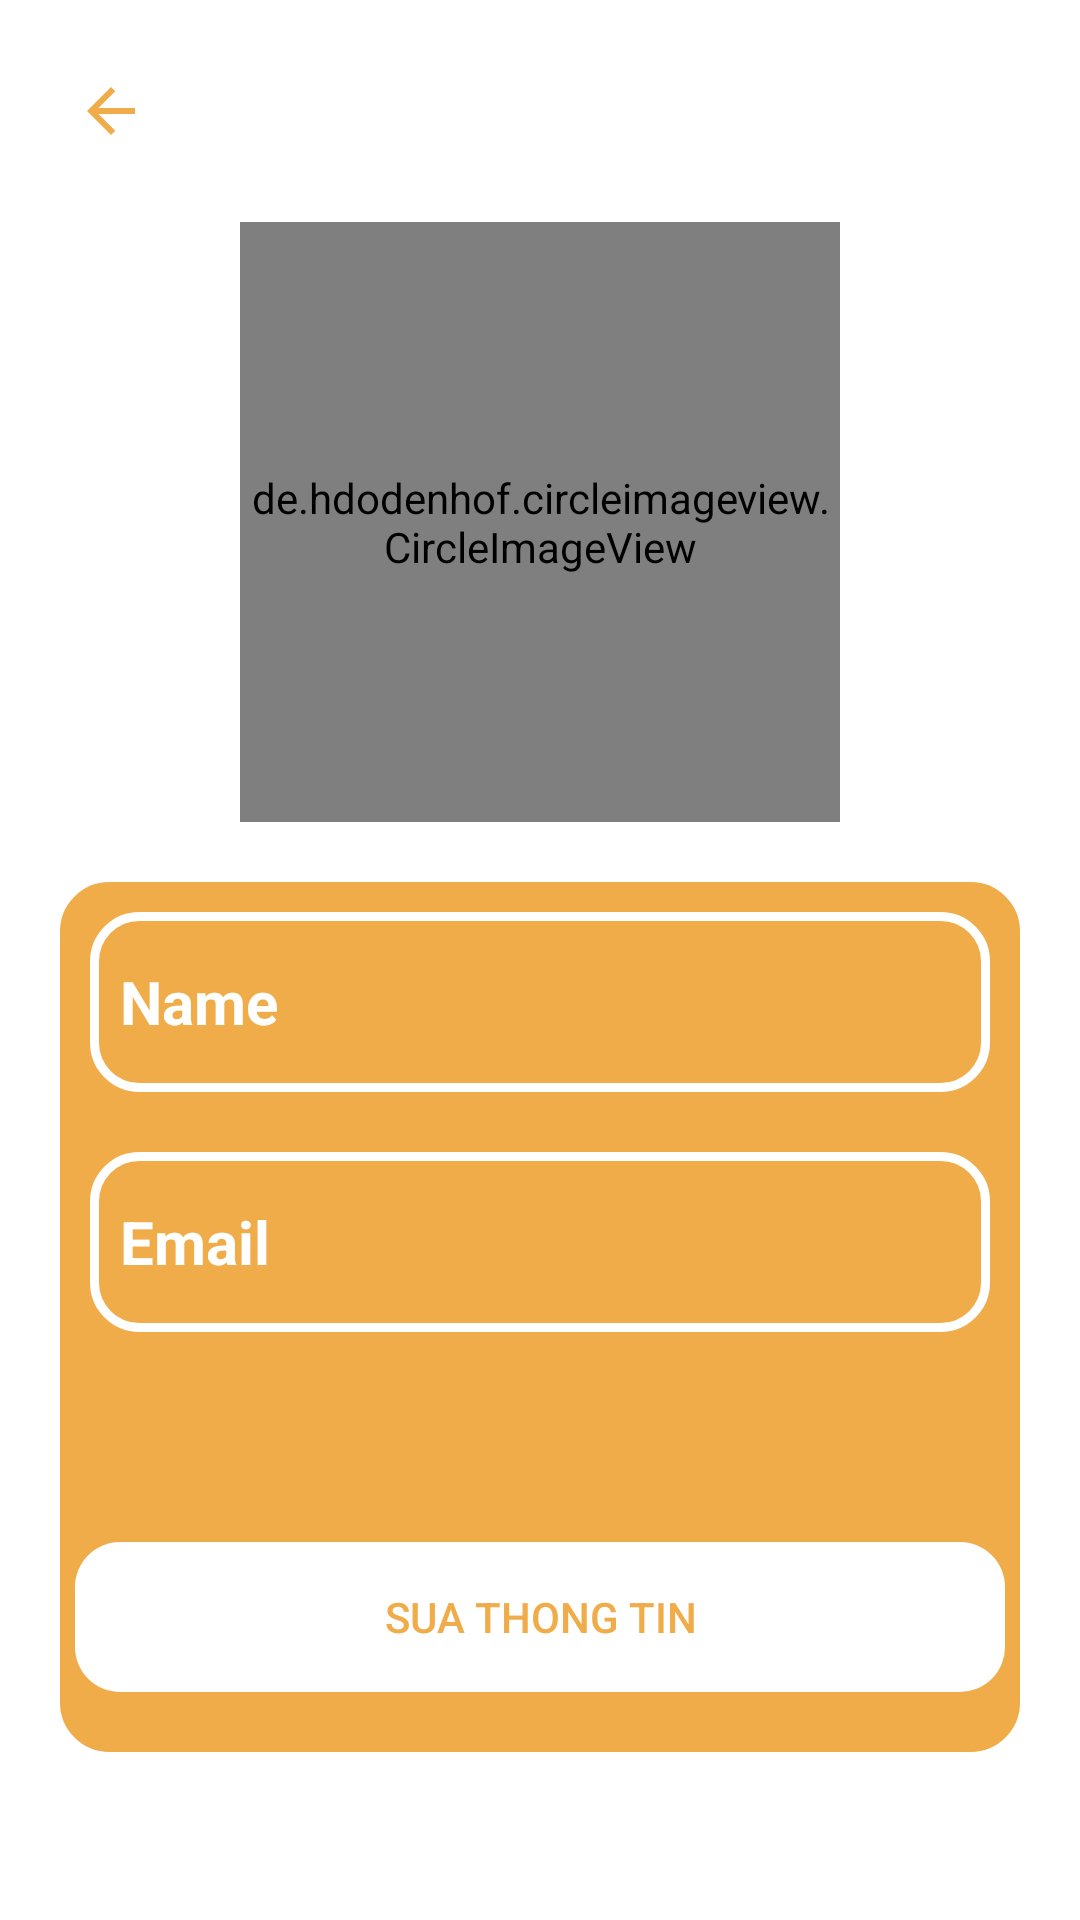

Icons on this 1080px×1920px Android screen, each with its box as (x1, y1, x2, y2):
arrow back: (87, 87, 135, 135)
